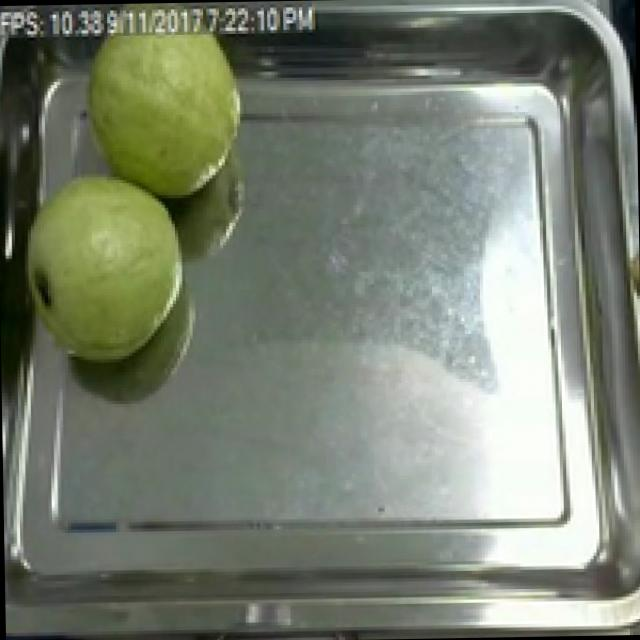Fruit: (7, 156, 196, 377), (65, 31, 254, 212)
